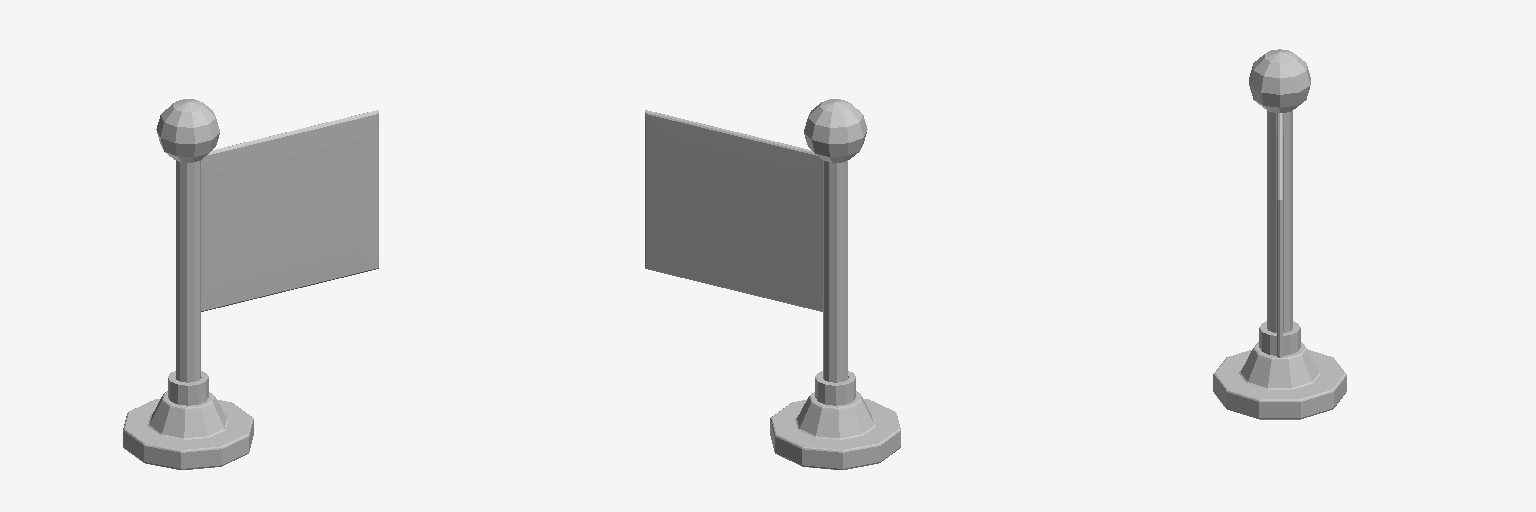
The model's file is flag.obj.
3 renders of one model, left to right at view 1: azimuth 30°, elevation 25°; view 2: azimuth 150°, elevation 25°; view 3: azimuth 270°, elevation 25°, orthographic.
Parts seen in each view (by area): view 1: pCube1__Mt_Flag; view 2: pCube1__Mt_Flag; view 3: pCube1__Mt_Flag.
Part boxes in pixels (left/top/right/bottom): pCube1__Mt_Flag: left=123, top=99, right=378, bottom=469; pCube1__Mt_Flag: left=645, top=99, right=900, bottom=469; pCube1__Mt_Flag: left=1213, top=49, right=1346, bottom=419.
Size of the model in its own units: 21.45 by 28.51 by 10.12.